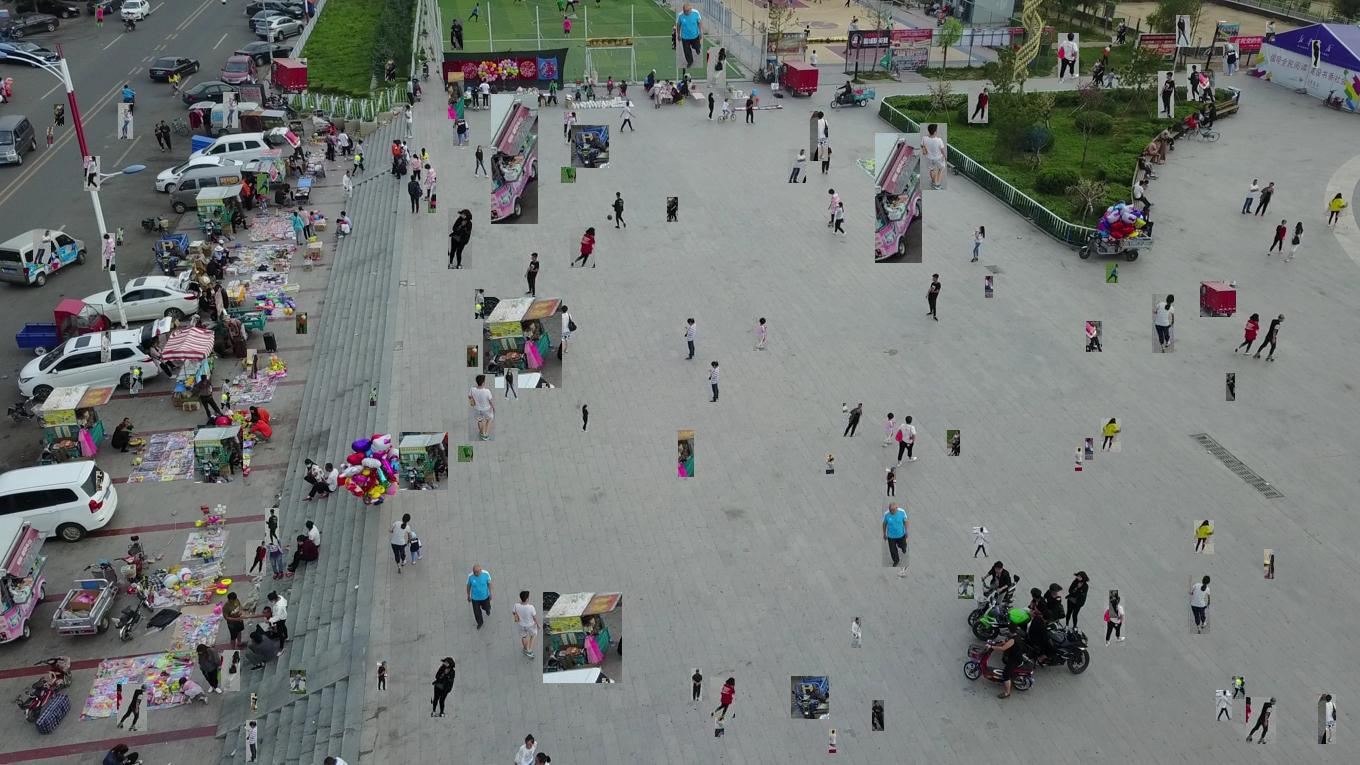awning-tricycle: (37, 385, 116, 476), (483, 297, 562, 388), (543, 592, 622, 683), (0, 516, 47, 646), (491, 94, 538, 224), (875, 133, 922, 263), (196, 184, 245, 242), (194, 425, 243, 483), (399, 432, 448, 490), (151, 233, 189, 276), (571, 125, 609, 168), (791, 676, 829, 719), (781, 60, 817, 96), (271, 58, 307, 94), (1200, 281, 1236, 317)
bicycle: (15, 298, 105, 355), (1188, 121, 1219, 141), (717, 103, 736, 122), (0, 25, 19, 41), (172, 116, 188, 135), (1199, 44, 1216, 59), (889, 61, 899, 77), (171, 75, 179, 95)
car: (17, 316, 172, 401), (0, 459, 117, 544), (74, 269, 202, 327), (188, 126, 290, 169), (155, 155, 248, 193), (182, 80, 248, 107), (0, 39, 59, 67), (0, 11, 59, 37), (234, 41, 293, 66), (149, 56, 199, 81), (255, 15, 304, 39), (220, 55, 257, 86), (14, 0, 80, 17), (246, 1, 305, 20), (248, 10, 292, 30), (119, 0, 150, 20), (85, 0, 126, 13)
ignored regions: (266, 95, 305, 134), (512, 732, 550, 764), (567, 0, 604, 10), (389, 156, 403, 178), (390, 139, 406, 153), (844, 0, 858, 7), (782, 0, 793, 8)
motor: (1000, 620, 1089, 674), (972, 591, 1065, 642), (963, 638, 1037, 690), (14, 656, 71, 722), (967, 574, 1020, 629), (111, 578, 153, 641), (114, 535, 147, 593), (7, 392, 51, 427), (141, 212, 170, 237), (266, 76, 293, 92), (1323, 89, 1343, 109), (410, 77, 421, 102), (418, 57, 429, 81), (124, 88, 135, 111), (936, 14, 953, 26), (123, 15, 135, 32), (906, 0, 919, 8)
pedestrian: (512, 590, 539, 657), (920, 123, 947, 190), (468, 374, 495, 441), (466, 564, 493, 629), (676, 3, 703, 68), (882, 502, 909, 567), (1064, 570, 1088, 631), (431, 656, 455, 717), (448, 208, 472, 269), (1254, 314, 1284, 361), (1246, 697, 1276, 744), (117, 684, 147, 731), (388, 513, 410, 572), (1188, 575, 1210, 634), (1152, 294, 1174, 353), (896, 416, 917, 466), (1058, 33, 1079, 83), (1104, 596, 1125, 646), (1234, 313, 1259, 354), (570, 227, 595, 268), (710, 677, 735, 718), (554, 305, 572, 355), (1318, 694, 1336, 744), (810, 111, 828, 161), (1284, 221, 1303, 262), (707, 47, 726, 88), (221, 650, 240, 691), (924, 273, 940, 320), (530, 309, 546, 356), (1158, 71, 1174, 118), (523, 252, 539, 299), (448, 72, 464, 119), (678, 430, 694, 477), (1266, 219, 1286, 255), (246, 540, 266, 576), (968, 87, 988, 123), (1327, 193, 1347, 227), (1194, 520, 1214, 554), (1101, 418, 1121, 452), (1254, 182, 1273, 216), (843, 403, 862, 437), (1241, 179, 1259, 213), (788, 149, 806, 183), (33, 230, 51, 264), (831, 202, 847, 237), (564, 112, 580, 147), (84, 156, 100, 191), (969, 225, 984, 261), (223, 92, 238, 128), (118, 103, 133, 139), (406, 531, 422, 564), (453, 113, 469, 146), (1223, 43, 1239, 76), (611, 191, 625, 228), (265, 508, 279, 545), (1187, 64, 1201, 101), (619, 101, 635, 132), (290, 131, 306, 162), (1216, 690, 1232, 721), (973, 527, 989, 558), (1199, 72, 1215, 103), (1086, 321, 1102, 352), (827, 188, 840, 226), (102, 233, 115, 271), (423, 163, 436, 201), (881, 412, 895, 446), (753, 317, 767, 351), (895, 545, 909, 579), (684, 317, 695, 359), (708, 360, 719, 402), (246, 720, 257, 762), (474, 145, 488, 177), (1176, 15, 1190, 47), (504, 368, 518, 400), (1103, 68, 1119, 92), (958, 575, 974, 599), (290, 670, 306, 694), (159, 120, 171, 151), (451, 19, 463, 50), (872, 700, 884, 731), (820, 141, 831, 174), (907, 143, 918, 176), (691, 668, 702, 701), (1088, 58, 1101, 84), (1112, 18, 1125, 44), (947, 430, 960, 456), (342, 170, 352, 201), (101, 331, 111, 362), (851, 617, 861, 648), (842, 25, 852, 55), (745, 94, 755, 124), (1264, 549, 1274, 579), (247, 349, 257, 379), (886, 467, 896, 497), (377, 661, 387, 691), (351, 152, 364, 175), (1232, 676, 1245, 699), (130, 366, 143, 389), (1094, 62, 1105, 87), (672, 25, 683, 50), (667, 197, 678, 222), (354, 140, 363, 170), (475, 289, 484, 319), (221, 379, 230, 409), (154, 123, 163, 151), (1109, 590, 1118, 618), (1226, 373, 1235, 401), (1100, 44, 1111, 66), (296, 312, 307, 334), (467, 345, 478, 367), (552, 0, 567, 16), (467, 2, 479, 22), (458, 446, 473, 462), (561, 167, 576, 183), (1106, 263, 1118, 283), (257, 174, 269, 194), (707, 92, 715, 120), (581, 404, 589, 432), (1312, 40, 1320, 68), (1092, 61, 1102, 83), (385, 59, 395, 81), (54, 104, 64, 126), (562, 15, 570, 38), (95, 4, 103, 27), (428, 190, 436, 213), (849, 19, 858, 39), (1266, 21, 1275, 41), (715, 717, 724, 737), (247, 71, 255, 93), (1085, 438, 1093, 460), (985, 276, 993, 298), (810, 49, 817, 73), (829, 729, 836, 753), (1075, 447, 1082, 471), (850, 15, 858, 35), (130, 378, 138, 398), (826, 454, 834, 474), (803, 25, 809, 45), (876, 21, 882, 41), (251, 693, 257, 713), (96, 471, 102, 491), (47, 127, 53, 147), (148, 586, 154, 606), (886, 17, 892, 35), (117, 228, 123, 246), (370, 388, 376, 406)
people: (983, 621, 1023, 698), (1026, 609, 1059, 666), (981, 560, 1011, 620), (264, 590, 289, 655), (222, 591, 247, 656), (1019, 588, 1049, 642), (241, 606, 281, 644), (301, 462, 338, 500), (1033, 583, 1061, 633), (196, 644, 224, 692), (244, 631, 275, 671), (195, 374, 222, 418), (287, 534, 318, 571), (261, 529, 283, 579), (148, 340, 176, 378), (295, 519, 320, 556), (151, 337, 178, 370), (101, 742, 141, 764), (178, 677, 209, 703), (208, 284, 228, 320), (248, 416, 271, 444), (1135, 205, 1153, 240), (1133, 180, 1155, 207), (198, 290, 217, 320), (303, 458, 323, 486), (238, 175, 253, 212), (115, 417, 138, 440), (331, 211, 352, 236), (338, 128, 353, 162), (111, 423, 129, 451), (407, 175, 420, 213), (297, 206, 311, 240), (248, 405, 269, 427), (1156, 133, 1171, 163), (213, 336, 234, 357), (206, 256, 225, 279), (207, 281, 221, 312), (1137, 150, 1155, 174), (210, 247, 228, 270), (419, 148, 432, 179), (274, 186, 293, 207), (230, 210, 248, 232), (292, 211, 304, 244), (1159, 126, 1174, 150), (1138, 154, 1154, 176), (478, 78, 489, 109), (325, 130, 336, 161), (836, 80, 851, 102), (1147, 139, 1160, 164), (287, 155, 303, 175), (548, 78, 560, 103), (122, 84, 135, 107), (403, 105, 412, 137), (215, 241, 230, 260), (202, 110, 212, 138), (405, 77, 414, 107), (653, 79, 662, 108), (1206, 103, 1216, 129), (470, 84, 480, 110), (411, 154, 421, 180), (1173, 117, 1185, 138), (336, 218, 349, 237), (339, 134, 352, 153), (1133, 179, 1148, 195), (281, 183, 294, 201), (488, 83, 498, 106), (1187, 112, 1199, 131), (924, 0, 939, 15), (647, 69, 656, 94), (308, 211, 317, 236), (933, 3, 948, 17), (254, 176, 261, 206), (168, 70, 179, 89), (1199, 104, 1208, 127), (523, 87, 534, 105), (722, 98, 732, 117), (670, 87, 681, 104), (648, 84, 661, 98), (124, 11, 134, 29), (258, 191, 267, 211), (940, 5, 952, 19), (617, 79, 626, 97), (327, 122, 336, 140), (606, 75, 614, 95), (586, 84, 595, 101), (923, 0, 935, 12), (765, 60, 773, 78), (679, 81, 688, 97), (644, 74, 652, 91), (583, 76, 591, 93), (971, 226, 979, 242), (0, 76, 5, 100), (1, 87, 8, 104), (662, 79, 671, 91), (683, 72, 690, 87), (669, 81, 676, 96), (127, 13, 135, 25), (500, 164, 508, 174), (677, 79, 684, 90), (574, 91, 582, 100)
tricycle: (52, 559, 118, 635), (190, 305, 265, 341), (1078, 229, 1154, 260), (830, 83, 874, 107), (753, 64, 798, 83)
van: (169, 161, 276, 213), (0, 224, 86, 286), (188, 101, 275, 137), (0, 114, 36, 166)
